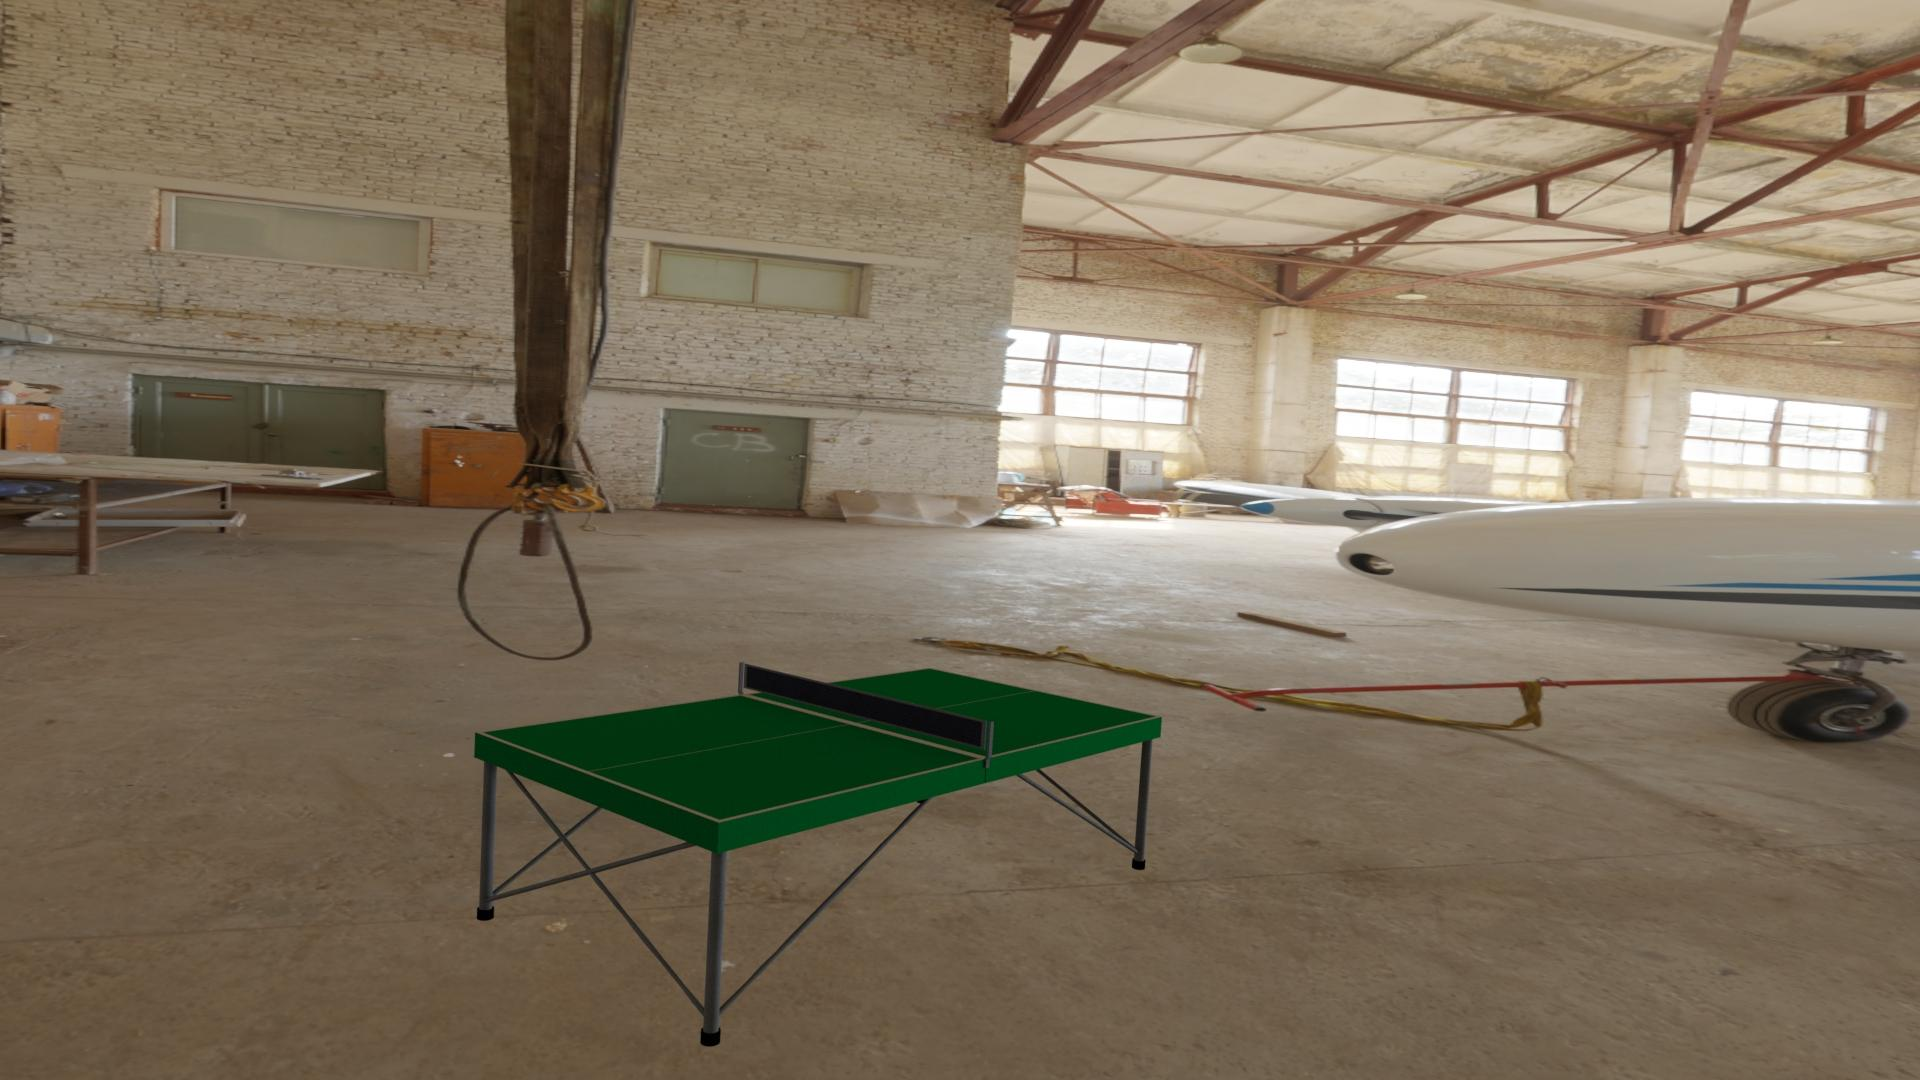table: (482, 669, 1156, 820)
